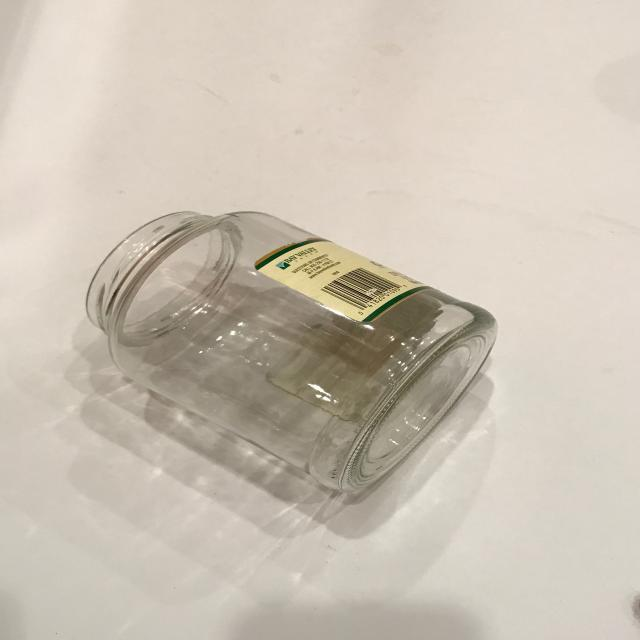glass: (86, 210, 500, 501)
